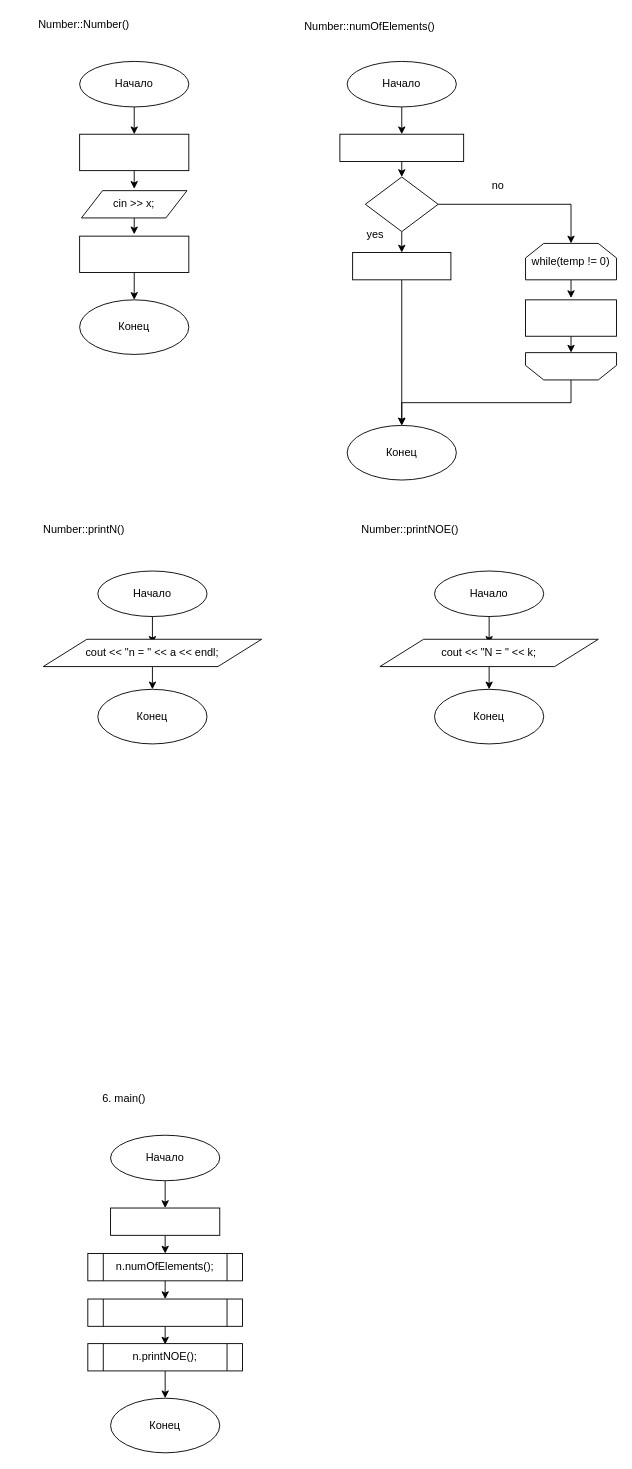
This 632x1469 diagram has some shape labels left out. Here are the shapes that lost their labels. From the top down, the centre of each, then its label:
the point at 134,152: long long int x;
the point at 401,147: long long int temp = a;
the point at 401,204: temp == 0
the point at 134,254: this->a = x;
the point at 401,266: k == 1
the point at 571,317: temp = temp / 10; k++;
the point at 165,1221: Number n;
the point at 165,1312: n.printN();
